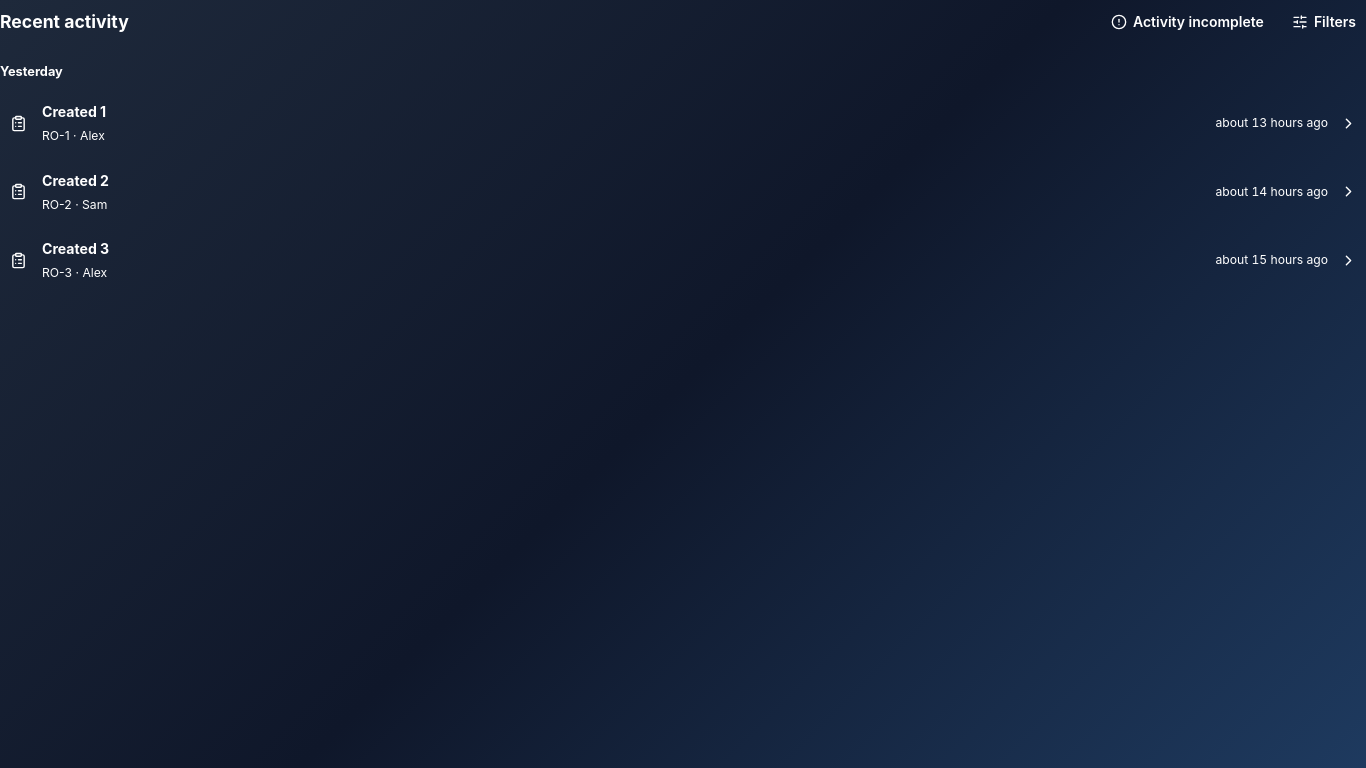
Shop Work activity consistency › keeps incomplete coverage visible without a stack of warning banners
Click the button "Activity incomplete": (1187, 22) [1101,0,1274,44]
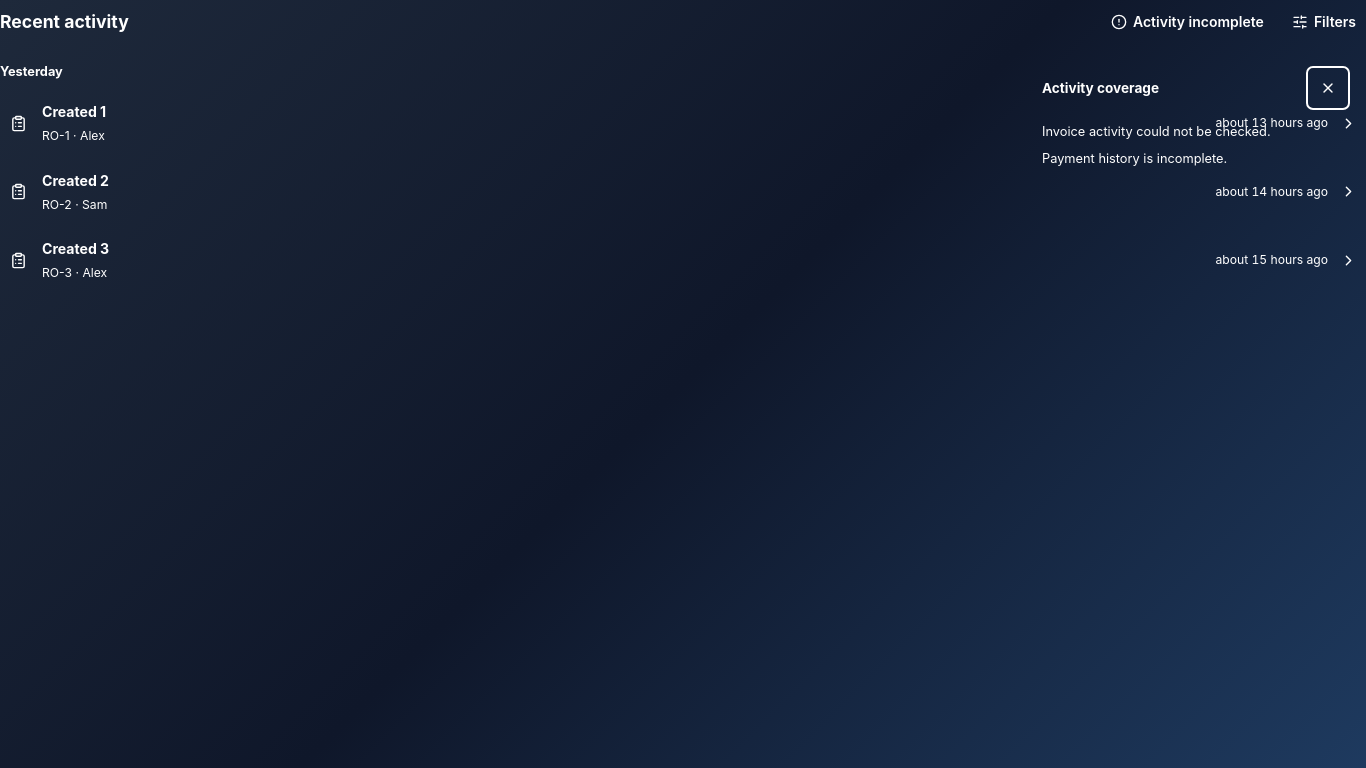
Expected: the dialog "Activity coverage" shows "Invoice activity could not be checked.", [1042,124,1271,139]
Expected: the dialog "Activity coverage" shows "Payment history is incomplete.", [1042,151,1227,166]
Expected: the button named "Close activity coverage" is shown, [1306,66,1350,110]
